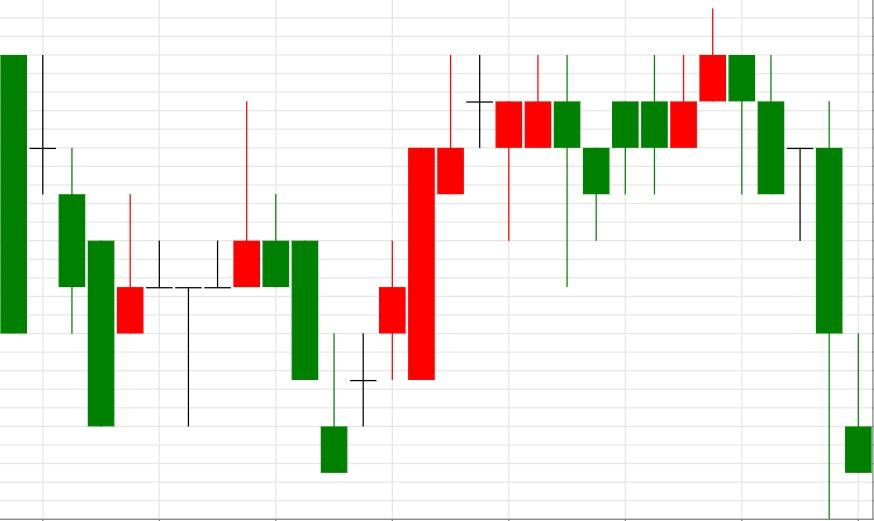inverse_hammer_rise: (232, 102, 347, 473)
